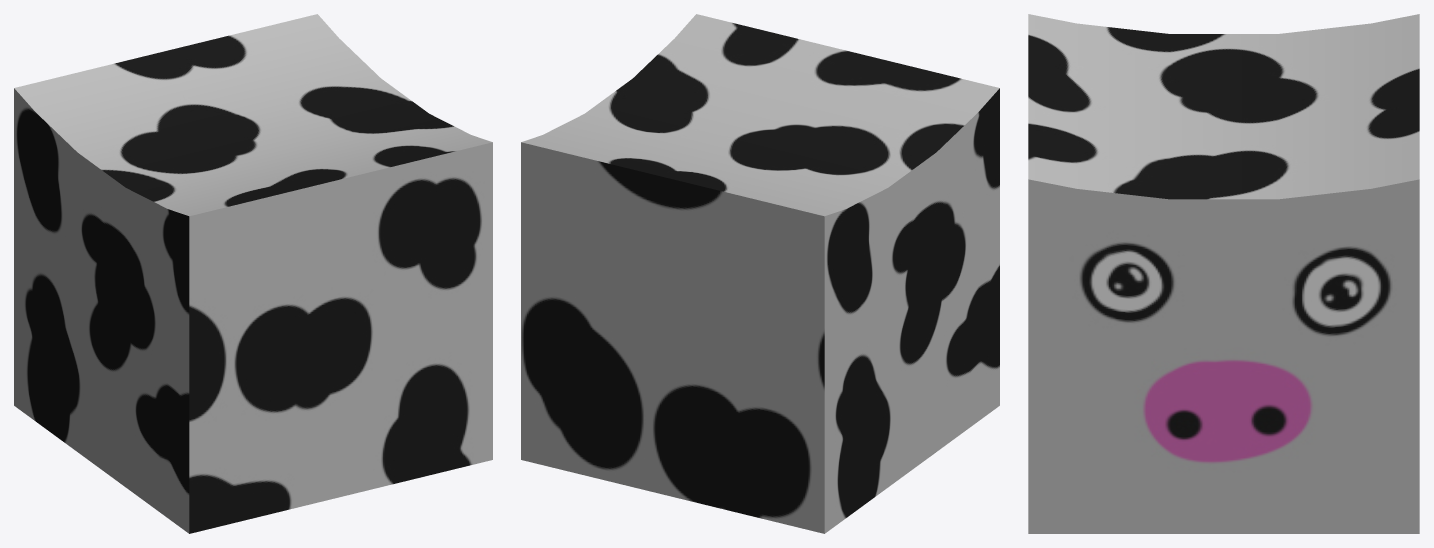
The model's file is cow.fbx.
3 renders of one model, left to right at view 1: azimuth 30°, elevation 25°; view 2: azimuth 150°, elevation 25°; view 3: azimuth 270°, elevation 25°, orthographic. The views are drawn at different scales.
Parts seen in each view (by area): view 1: Cube; view 2: Cube; view 3: Cube.
Part boxes in pixels (<box>): Cube: <box>14,14,492,533</box>; Cube: <box>521,14,999,533</box>; Cube: <box>1028,14,1419,533</box>.
Size of the model in its own units: 200 by 200 by 200.
1 material, 1 textured.
